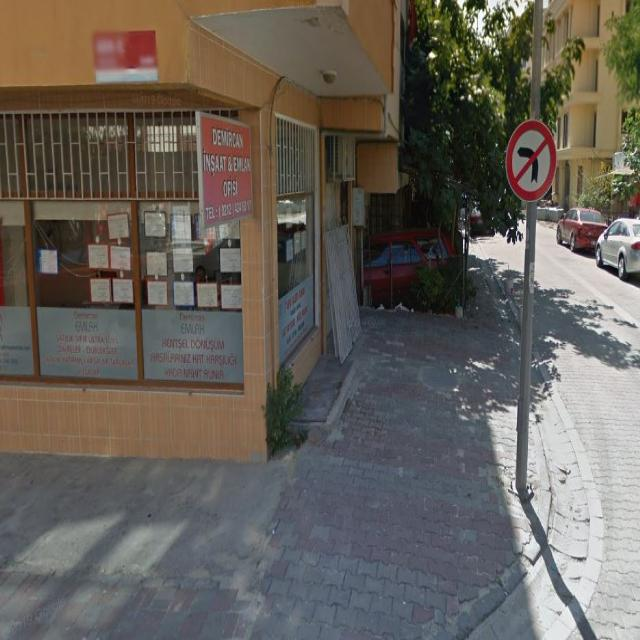soladonulmez: (506, 120, 556, 201)
